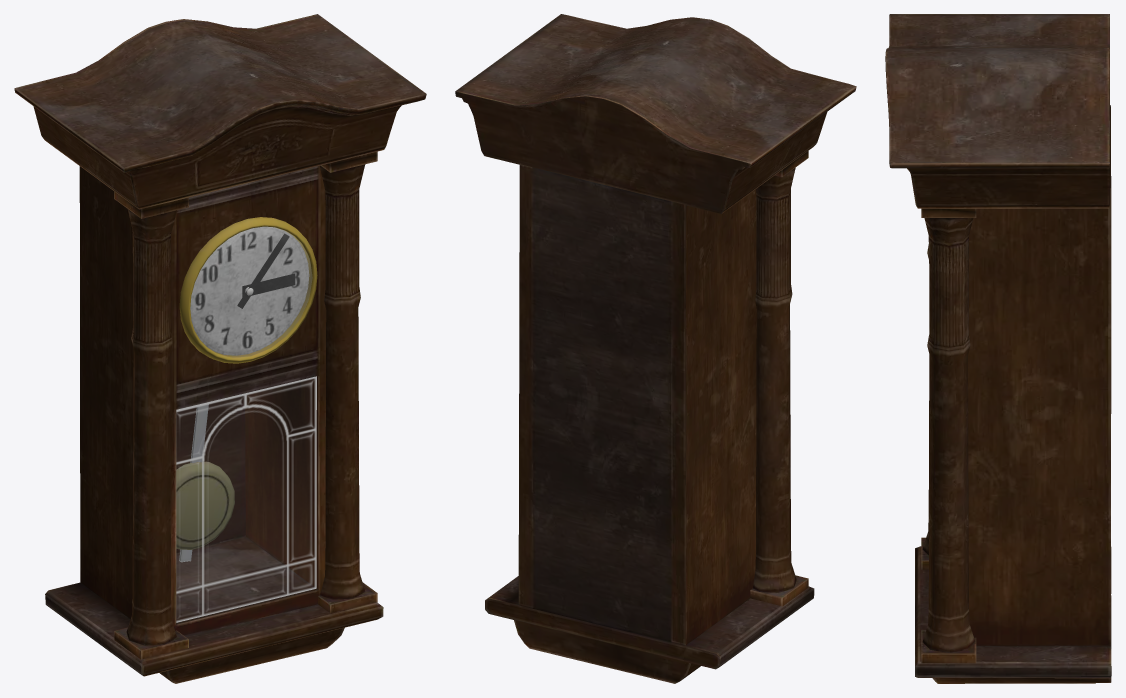
File: clock.glb
3 views of the same model, side by side, from view 1: azimuth 30°, elevation 25°; view 2: azimuth 150°, elevation 25°; view 3: azimuth 270°, elevation 25° (orthographic). The views are drawn at different scales.
Parts seen in each view (by area): view 1: wall_clock, wall_clock_glass, wall_clock_pendulum; view 2: wall_clock; view 3: wall_clock.
Boxes of the visible parts, bbox=[...] form: wall_clock: bbox=[14, 14, 426, 683]; wall_clock_glass: bbox=[176, 227, 316, 622]; wall_clock_pendulum: bbox=[176, 404, 234, 562]; wall_clock: bbox=[455, 14, 856, 683]; wall_clock: bbox=[885, 14, 1111, 683].
Size of the model in its own units: 0.2988 by 0.5519 by 0.1911.
2 materials, 2 textured.
